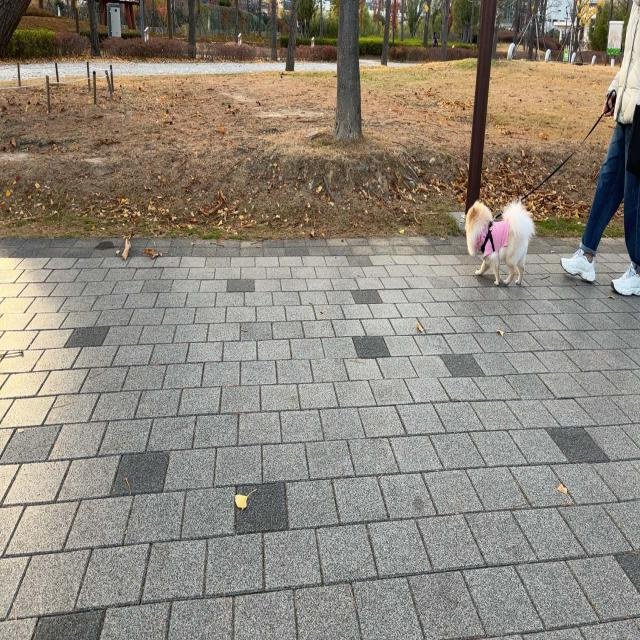Leashed_Dog: (464, 97, 625, 285)
